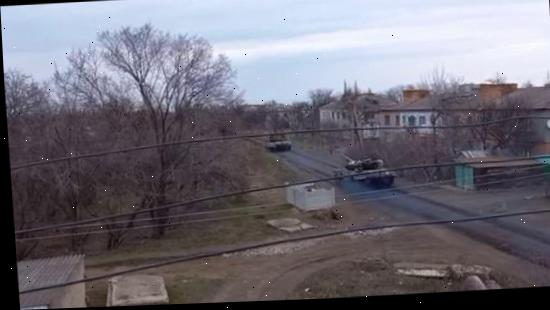tank: (328, 148, 397, 189), (261, 128, 294, 154)
